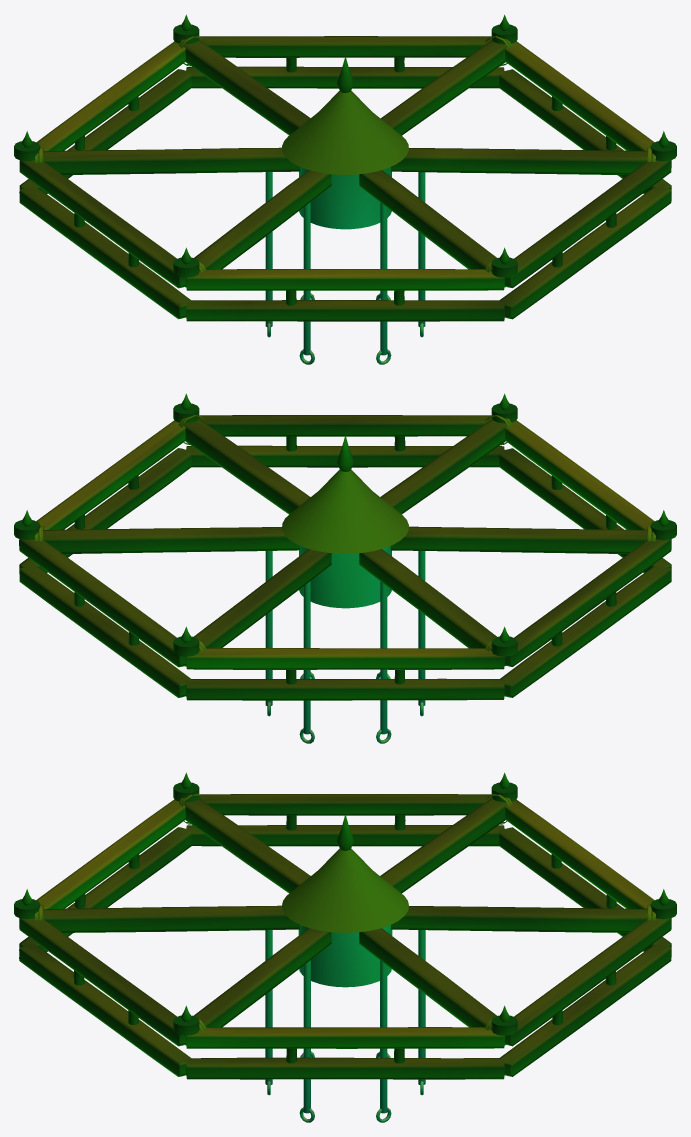
Rendered from gantry_head.glb.
The picture shows the model from 3 angles, top to bottom: view 1: azimuth 30°, elevation 25°; view 2: azimuth 150°, elevation 25°; view 3: azimuth 270°, elevation 25°; orthographic projection.
Visible parts, largest first — view 1: gantry_head; view 2: gantry_head; view 3: gantry_head.
Part boxes in pixels (box(x1,y1,x2,y2)): gantry_head: box(14, 14, 676, 364); gantry_head: box(14, 393, 676, 743); gantry_head: box(14, 772, 676, 1122).
Size of what is drawn, in the model's own units: 27.22 by 14.61 by 31.24.
